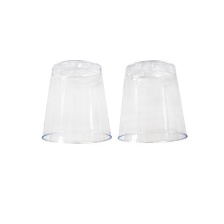glass: (116, 59, 198, 150), (36, 54, 114, 149)
